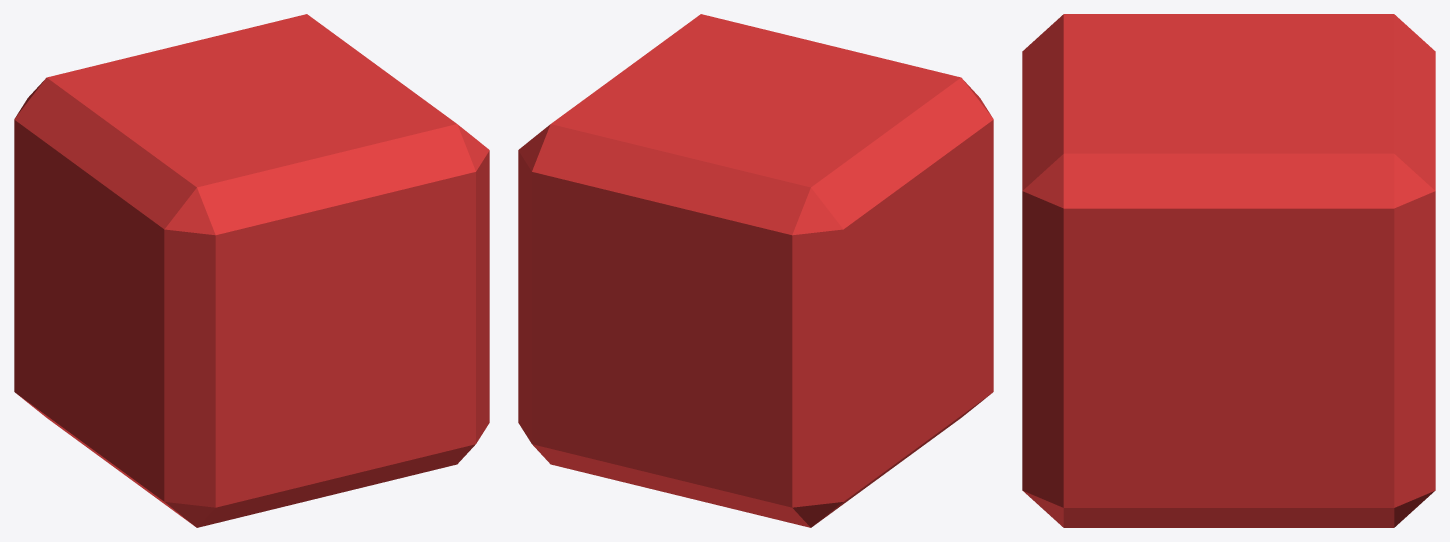
Rendered from tb_block_red.glb.
3 renders of one model, left to right at view 1: azimuth 30°, elevation 25°; view 2: azimuth 150°, elevation 25°; view 3: azimuth 270°, elevation 25°, orthographic. The views are drawn at different scales.
Parts seen in each view (by area): view 1: Cube; view 2: Cube; view 3: Cube.
Boxes of the visible parts, bbox=[...] form: Cube: bbox=[14, 14, 489, 527]; Cube: bbox=[518, 14, 993, 527]; Cube: bbox=[1022, 14, 1435, 527].
Bounding box in the file's own units: 1.5 × 1.5 × 1.5.
